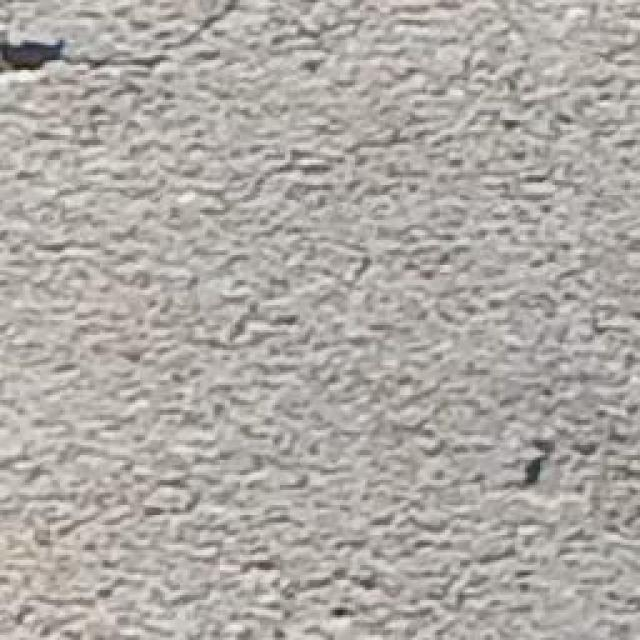concrete-crack: (0, 35, 68, 75), (520, 458, 545, 488)
